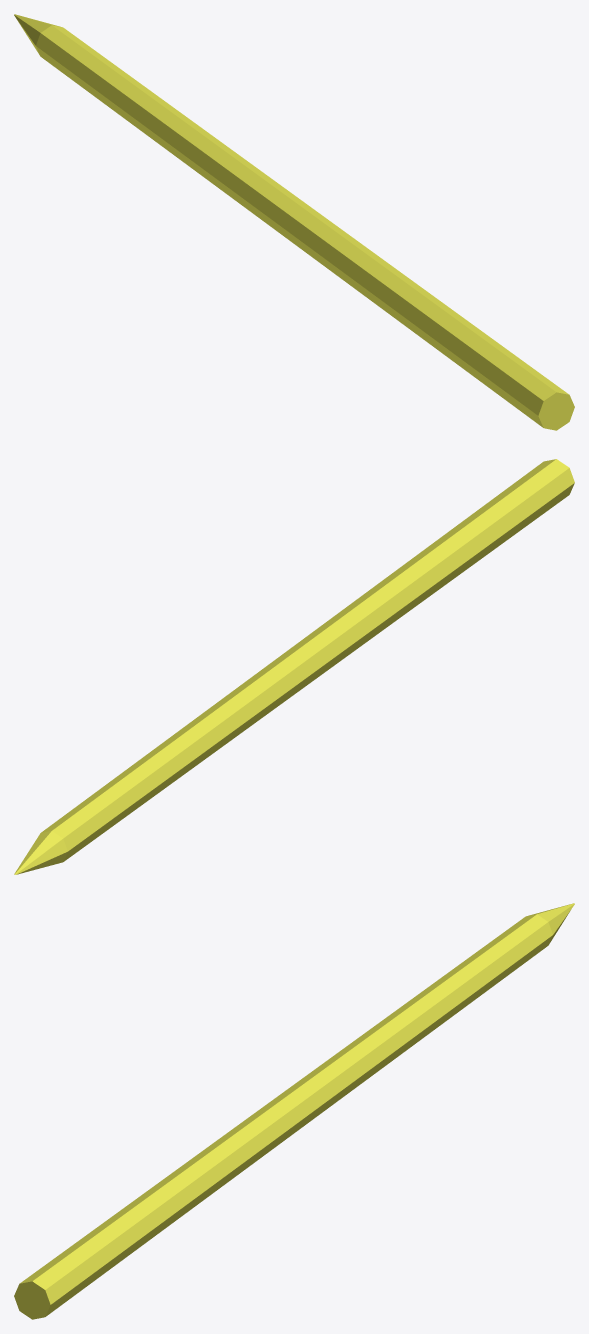
Rendered from Lapiz 1.fbx.
3 renders of one model, top to bottom at view 1: azimuth 30°, elevation 25°; view 2: azimuth 150°, elevation 25°; view 3: azimuth 330°, elevation 25°, orthographic.
Parts seen in each view (by area): view 1: Lapiz_1; view 2: Lapiz_1; view 3: Lapiz_1.
Boxes of the visible parts, box(x1,y1,x2,y2) form: Lapiz_1: box(14, 14, 574, 430); Lapiz_1: box(14, 459, 574, 874); Lapiz_1: box(14, 903, 574, 1319).
Bounding box in the file's own units: 0.00766 × 0.00766 × 0.1962.
